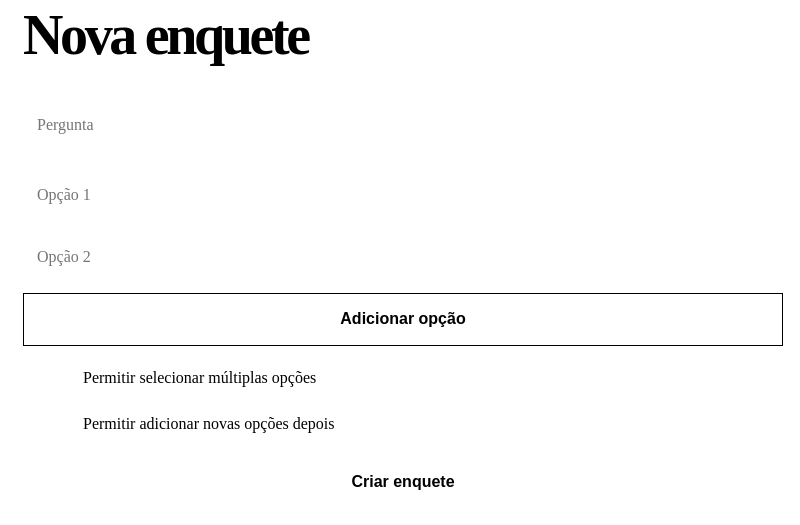
Test: poll presentation › shows the question requirement only after a submission attempt
This screenshot has width=800, height=525.
Expected: the text "A pergunta precisa ter pelo menos 10 caracteres e 2 palavras." is not shown
Click the button "Criar enquete". click: [403, 482]
box: [23,456,783,508]
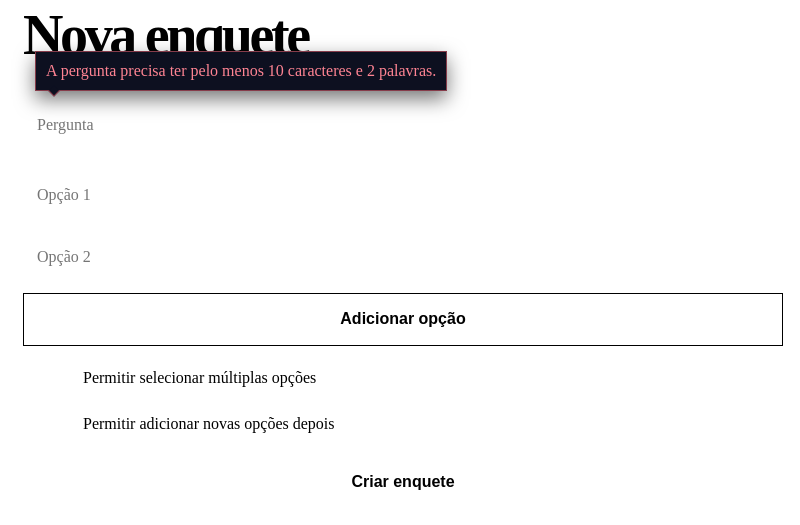
Result: the text "A pergunta precisa ter pelo menos 10 caracteres e 2 palavras." is shown at [35,51,447,91]
Click the checkbox labelled "Permitir selecionar múltiplas opções". click: [170, 378]
box: [23,364,316,392]
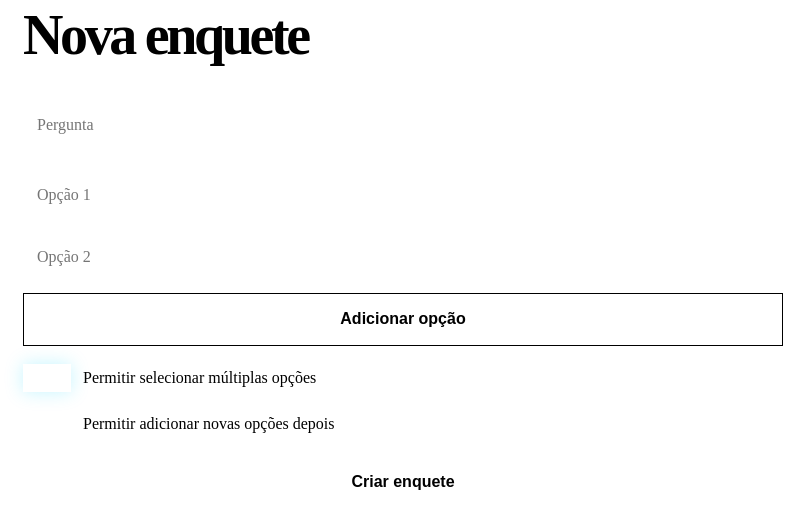
Result: the message with class "field-control__error" is gone
